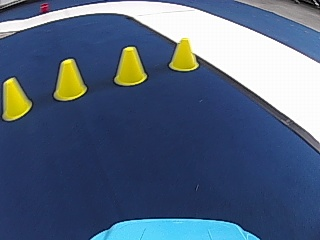cone: (53, 57, 88, 101), (114, 45, 148, 86), (1, 76, 32, 120), (169, 37, 198, 71)
